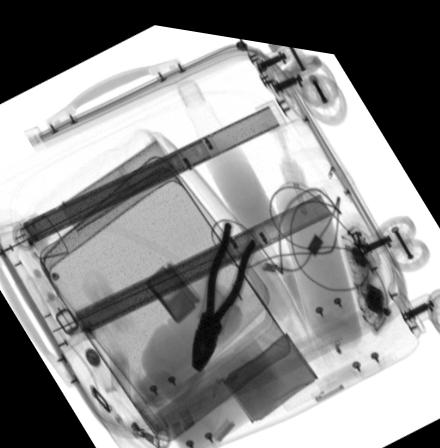Pliers: (189, 212, 256, 363)
